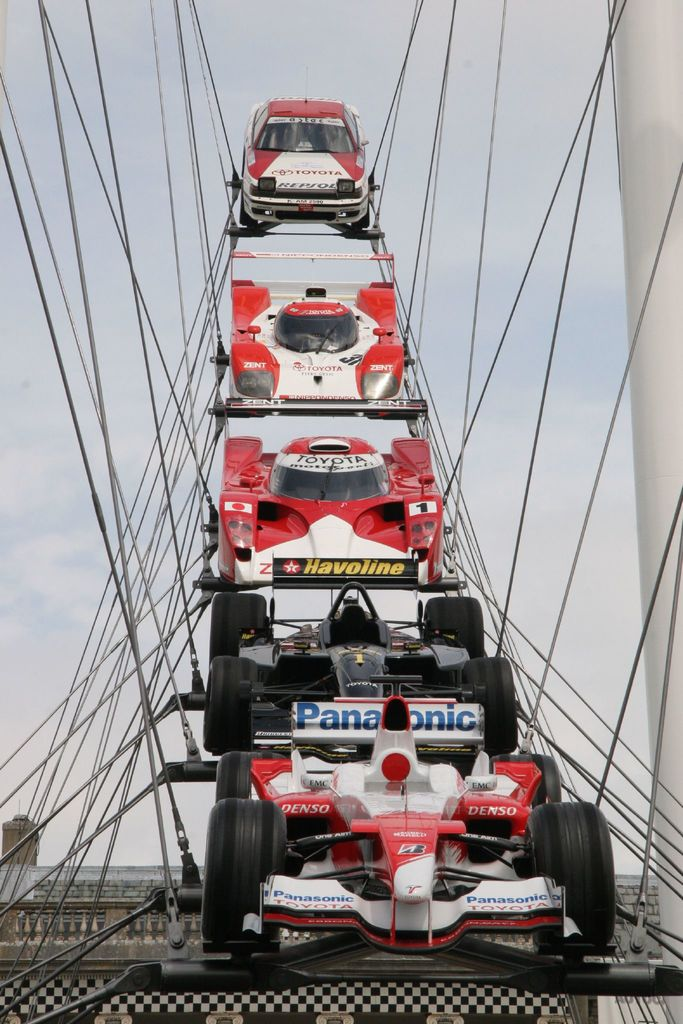cars: (200, 62, 614, 960)
